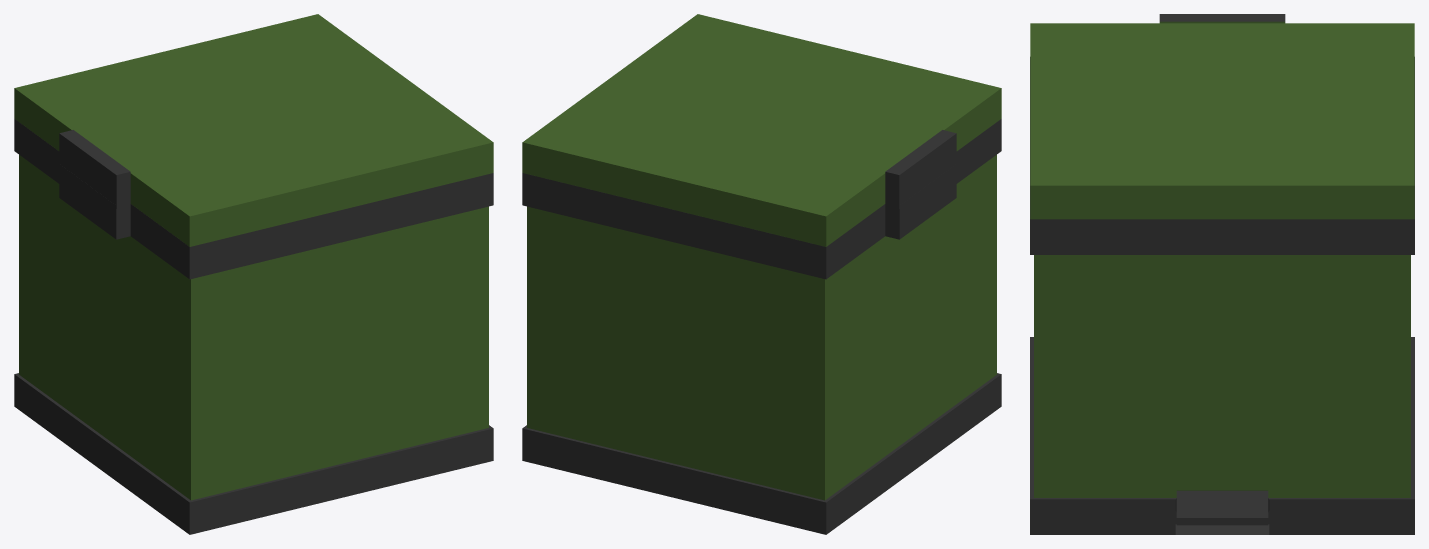
File: Bin_Cube_Pedal.fbx
3 views of the same model, side by side, from view 1: azimuth 30°, elevation 25°; view 2: azimuth 150°, elevation 25°; view 3: azimuth 270°, elevation 25° (orthographic). The views are drawn at different scales.
Visible parts, largest first — view 1: Base, Lid; view 2: Base, Lid; view 3: Base, Lid.
Boxes of the visible parts, box(x1,y1,x2,y2) form: Base: box(14, 119, 493, 534); Lid: box(14, 14, 493, 246); Base: box(522, 119, 1001, 534); Lid: box(522, 14, 1001, 246); Base: box(1030, 57, 1414, 534); Lid: box(1030, 14, 1414, 219).
Bounding box in the file's own units: 60.22 × 51.34 × 51.02.
